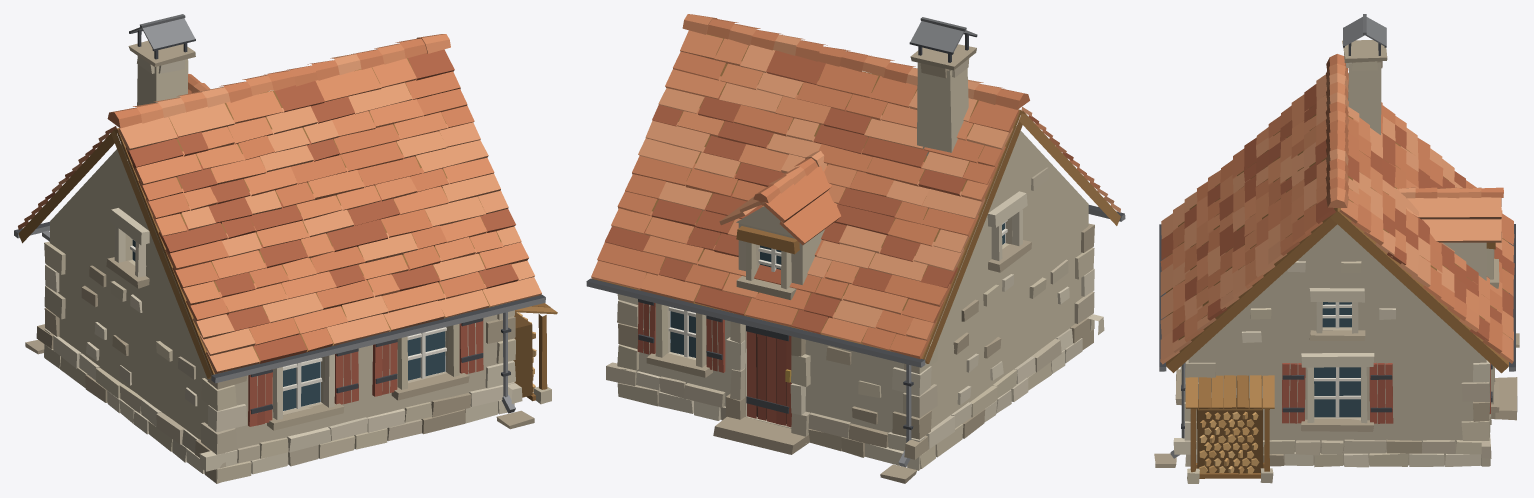
Rendered from hameau-c.glb.
3 renders of one model, left to right at view 1: azimuth 30°, elevation 25°; view 2: azimuth 150°, elevation 25°; view 3: azimuth 270°, elevation 25°, orthographic. The views are drawn at different scales.
Visible parts, largest first — view 1: hameau-c; view 2: hameau-c; view 3: hameau-c.
Boxes of the visible parts, x1,y1,x2,y2 form: hameau-c: [14, 14, 557, 483]; hameau-c: [586, 14, 1125, 483]; hameau-c: [1154, 14, 1519, 483].
Size of the model in its own units: 7.38 by 7.46 by 7.36.
